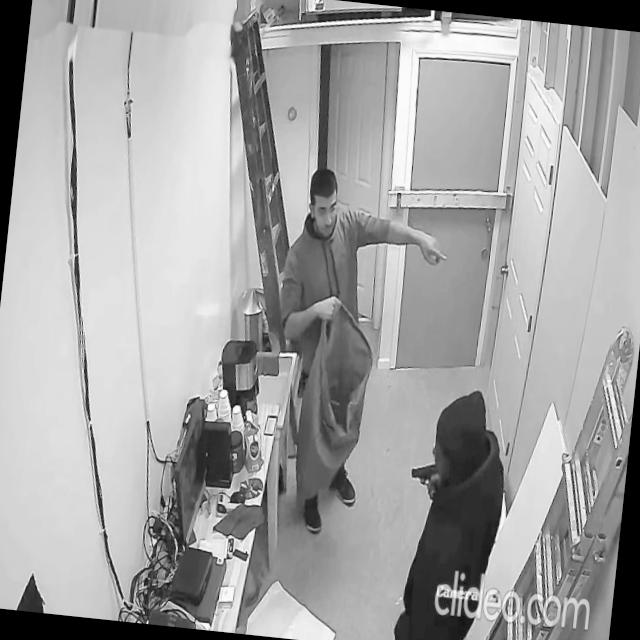gun: (408, 456, 442, 495)
person: (254, 163, 455, 544)
person with a gun: (390, 381, 515, 640)
